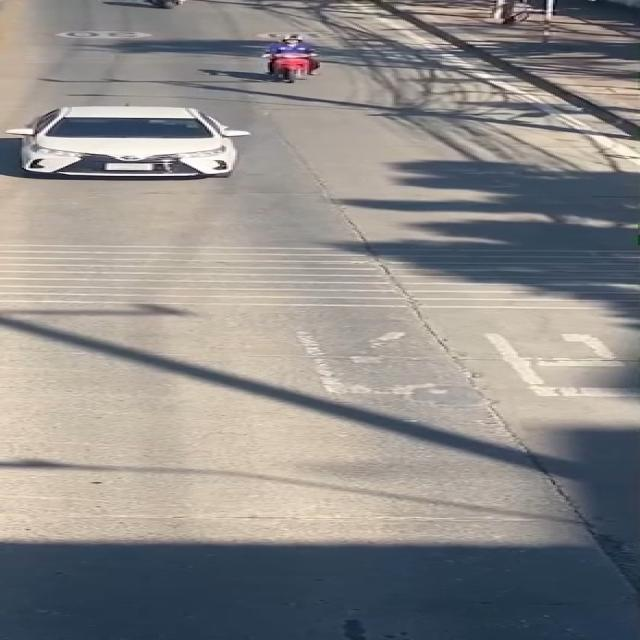car: (0, 98, 283, 197)
